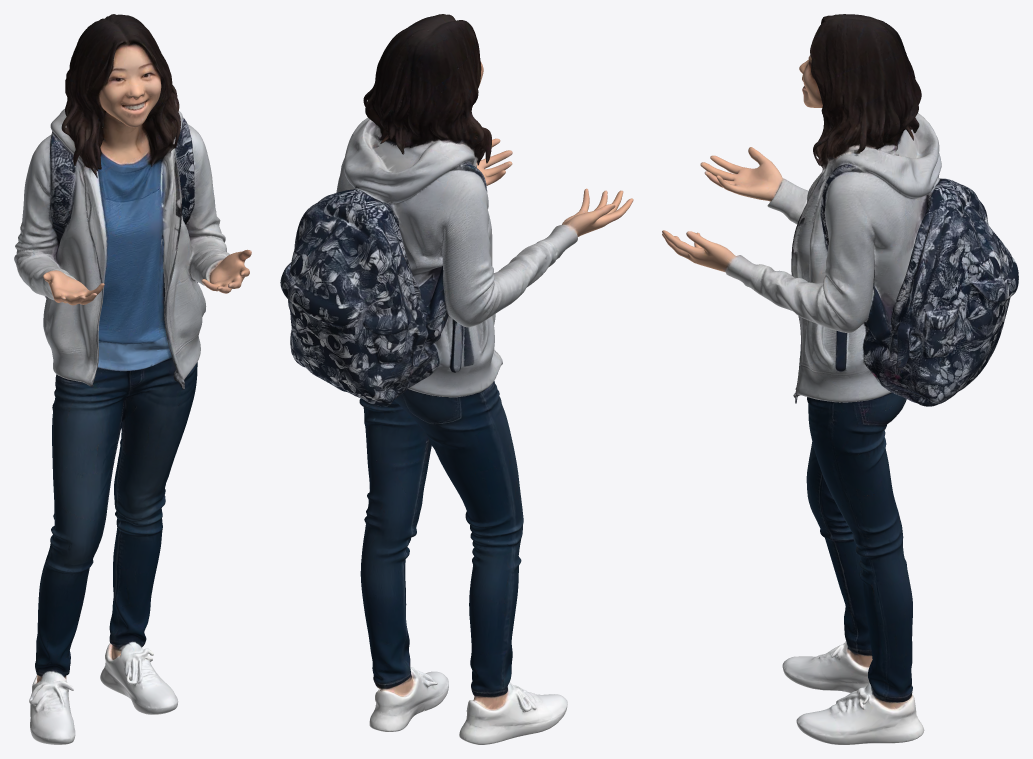
Rendered from stu_chat.glb.
3 renders of one model, left to right at view 1: azimuth 30°, elevation 25°; view 2: azimuth 150°, elevation 25°; view 3: azimuth 270°, elevation 25°, orthographic. The views are drawn at different scales.
Visible parts, largest first — view 1: mesh_0; view 2: mesh_0; view 3: mesh_0.
Part boxes in pixels (box(x1,y1,x2,y2)): mesh_0: box(14, 14, 251, 744); mesh_0: box(280, 14, 633, 744); mesh_0: box(662, 14, 1018, 744).
Size of the model in its own units: 0.689 by 1.9 by 0.8681.
Materials: 1 (1 with a texture image).
